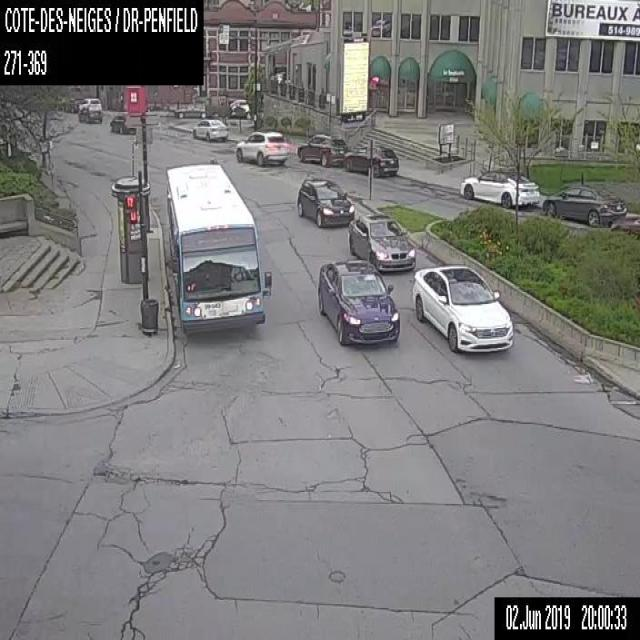bus: (165, 158, 271, 330)
vehicle: (410, 262, 514, 353), (318, 258, 401, 344), (348, 210, 417, 272), (541, 180, 628, 227), (456, 165, 539, 208), (296, 176, 354, 226), (343, 142, 399, 177), (235, 128, 287, 165), (297, 133, 347, 165), (192, 118, 228, 141), (220, 97, 255, 119), (610, 212, 639, 235), (109, 110, 136, 134), (78, 104, 103, 122), (76, 96, 103, 109)
